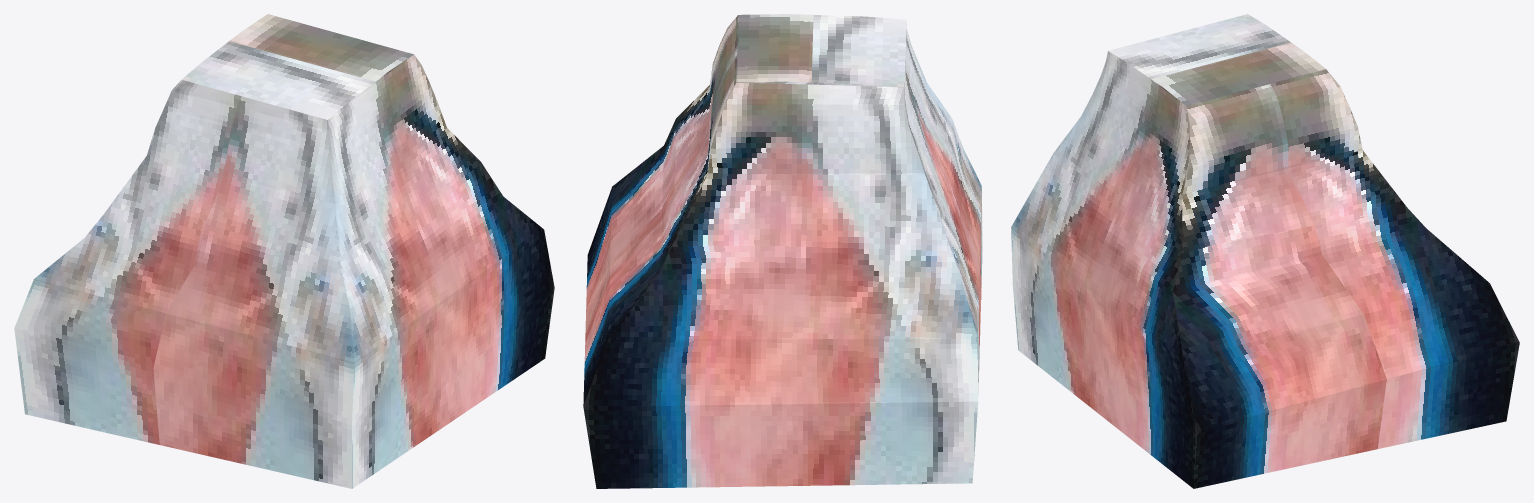
3 renders of one model, left to right at view 1: azimuth 30°, elevation 25°; view 2: azimuth 150°, elevation 25°; view 3: azimuth 270°, elevation 25°, orthographic. The views are drawn at different scales.
Parts seen in each view (by area): view 1: SPLICE_1.001; view 2: SPLICE_1.001; view 3: SPLICE_1.001.
Boxes of the visible parts, bbox=[...] form: SPLICE_1.001: bbox=[14, 14, 554, 488]; SPLICE_1.001: bbox=[583, 14, 982, 488]; SPLICE_1.001: bbox=[1011, 14, 1519, 488].
Bounding box in the file's own units: 1.51 × 1.09 × 1.51.
1 material, 1 textured.
